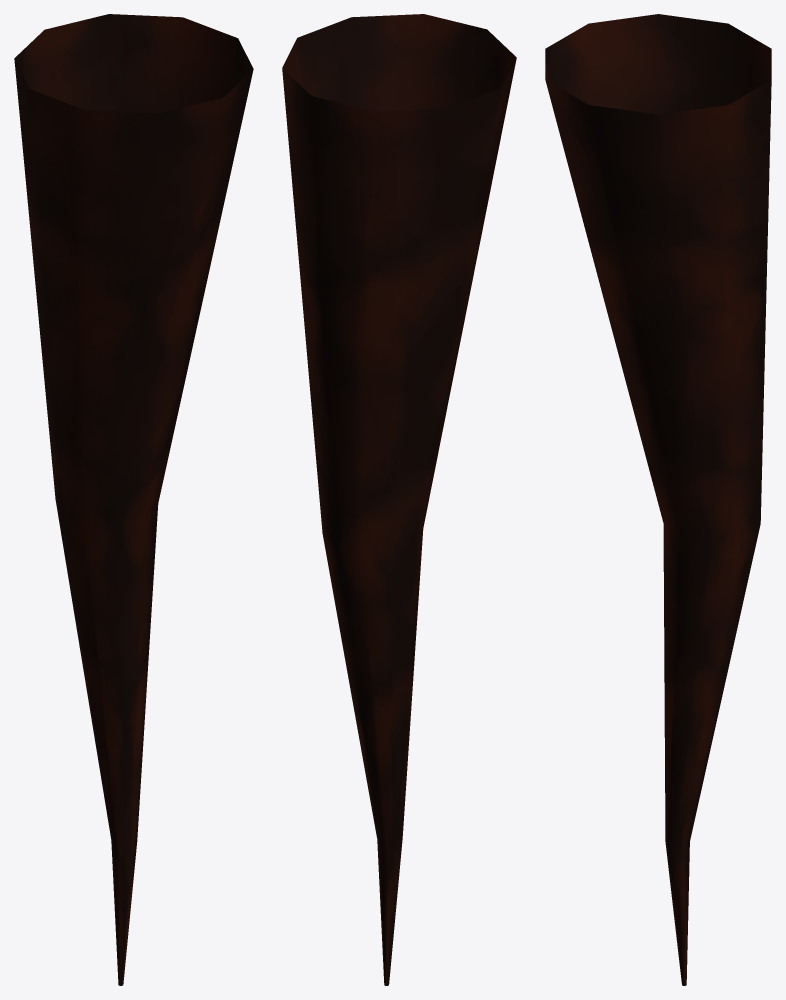
Rendered from smoke.fbx.
3 views of the same model, side by side, from view 1: azimuth 30°, elevation 25°; view 2: azimuth 150°, elevation 25°; view 3: azimuth 270°, elevation 25° (orthographic).
Parts seen in each view (by area): view 1: pCylinder1; view 2: pCylinder1; view 3: pCylinder1.
Part boxes in pixels (bbox=[...]): pCylinder1: bbox=[14, 14, 253, 985]; pCylinder1: bbox=[282, 14, 516, 985]; pCylinder1: bbox=[545, 14, 771, 985].
Size of the model in its own units: 7.05 by 30.1 by 6.71.
